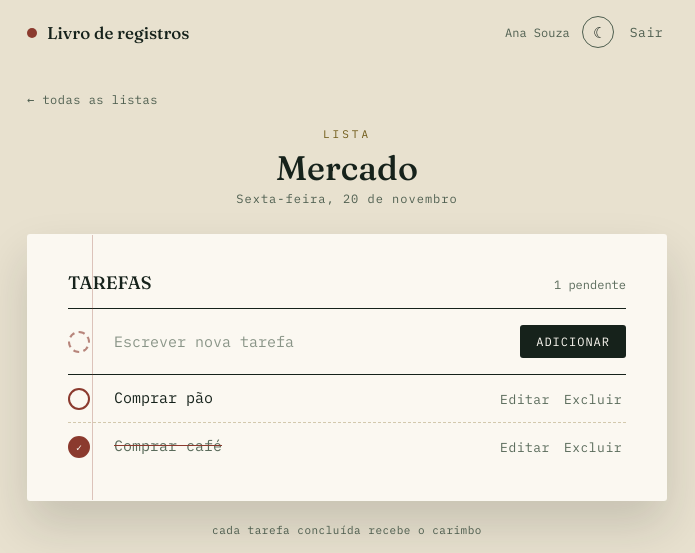
Test: TasksPage › marca e desmarca uma tarefa como concluída
Click the checkbox named "Comprar pão". click: (79, 399)
box: [68, 388, 90, 410]
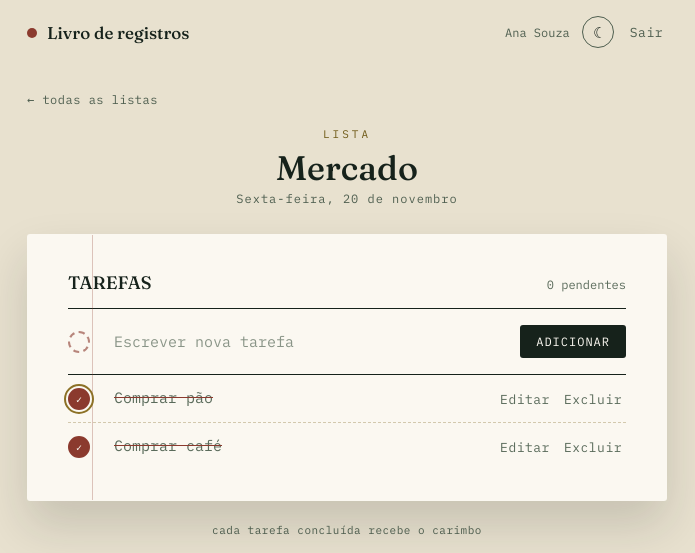
Expected: the checkbox named "Comprar pão" is checked, [68, 388, 90, 410]
Expected: the text "0 pendentes" is shown, [547, 277, 626, 292]
